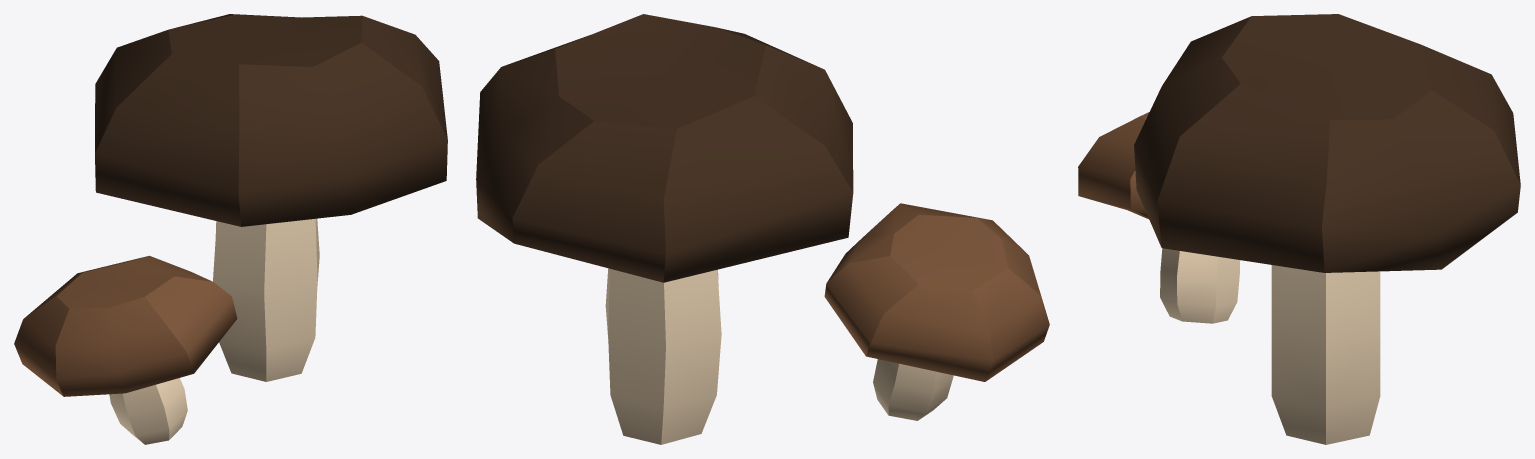
The model's file is brown_mushroom.obj.
3 renders of one model, left to right at view 1: azimuth 30°, elevation 25°; view 2: azimuth 150°, elevation 25°; view 3: azimuth 270°, elevation 25°, orthographic. The views are drawn at different scales.
Parts seen in each view (by area): view 1: pCylinder2 group1 brown_mushroom, brown_mushroom pasted__pCylinder2 pasted__group1 pasted__brown_m, group1 brown_mushroom pCylinder1, brown_mushroom pasted__group1 pasted__brown_mushroom pasted__pCy; view 2: pCylinder2 group1 brown_mushroom, brown_mushroom pasted__pCylinder2 pasted__group1 pasted__brown_m, group1 brown_mushroom pCylinder1, brown_mushroom pasted__group1 pasted__brown_mushroom pasted__pCy; view 3: pCylinder2 group1 brown_mushroom, group1 brown_mushroom pCylinder1, brown_mushroom pasted__group1 pasted__brown_mushroom pasted__pCy, brown_mushroom pasted__pCylinder2 pasted__group1 pasted__brown_m.
Boxes of the visible parts, x1=… form: pCylinder2 group1 brown_mushroom: x1=95, y1=14, x2=447, y2=226; brown_mushroom pasted__pCylinder2 pasted__group1 pasted__brown_m: x1=14, y1=255, x2=237, y2=396; group1 brown_mushroom pCylinder1: x1=213, y1=218, x2=319, y2=381; brown_mushroom pasted__group1 pasted__brown_mushroom pasted__pCy: x1=109, y1=378, x2=187, y2=444; pCylinder2 group1 brown_mushroom: x1=476, y1=14, x2=853, y2=282; brown_mushroom pasted__pCylinder2 pasted__group1 pasted__brown_m: x1=824, y1=203, x2=1049, y2=381; group1 brown_mushroom pCylinder1: x1=605, y1=268, x2=721, y2=444; brown_mushroom pasted__group1 pasted__brown_mushroom pasted__pCy: x1=873, y1=359, x2=953, y2=420; pCylinder2 group1 brown_mushroom: x1=1134, y1=14, x2=1520, y2=272; group1 brown_mushroom pCylinder1: x1=1271, y1=265, x2=1380, y2=444; brown_mushroom pasted__group1 pasted__brown_mushroom pasted__pCy: x1=1160, y1=248, x2=1240, y2=323; brown_mushroom pasted__pCylinder2 pasted__group1 pasted__brown_m: x1=1078, y1=112, x2=1149, y2=219.
Bounding box in the file's own units: 1.18 × 0.8475 × 0.9019.
